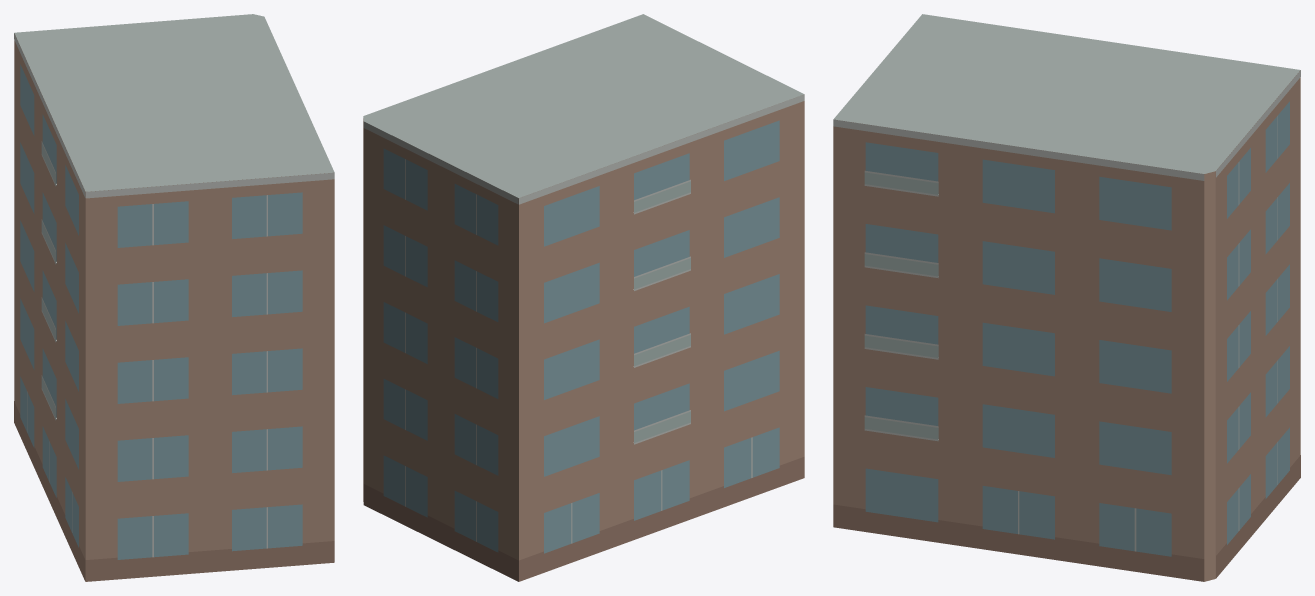
The model's file is survey-upis-32792601.glb.
3 views of the same model, side by side, from view 1: azimuth 30°, elevation 25°; view 2: azimuth 150°, elevation 25°; view 3: azimuth 270°, elevation 25° (orthographic). The views are drawn at different scales.
Parts seen in each view (by area): view 1: survey-upis-32792601.tmp; view 2: survey-upis-32792601.tmp; view 3: survey-upis-32792601.tmp.
Part boxes in pixels (x1,y1,x2,y2): survey-upis-32792601.tmp: (14,14,334,581); survey-upis-32792601.tmp: (363,14,804,581); survey-upis-32792601.tmp: (833,14,1300,581).
Bounding box in the file's own units: 12.05 × 14.3 × 14.87.
